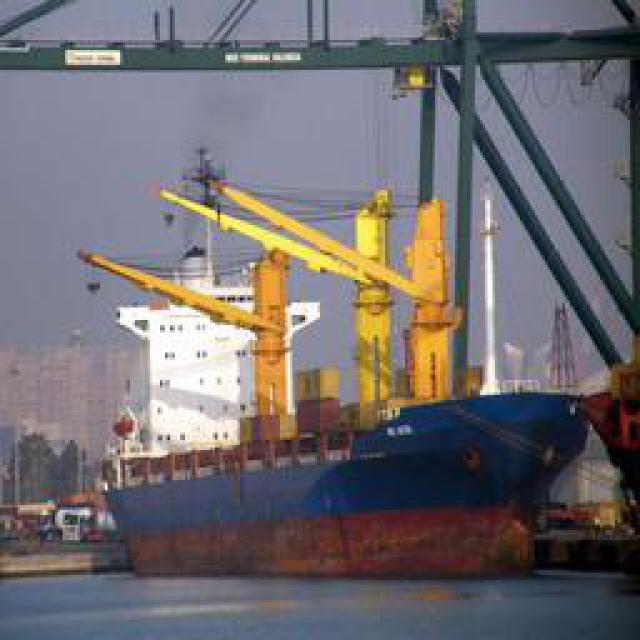Ship: (70, 140, 596, 588)
